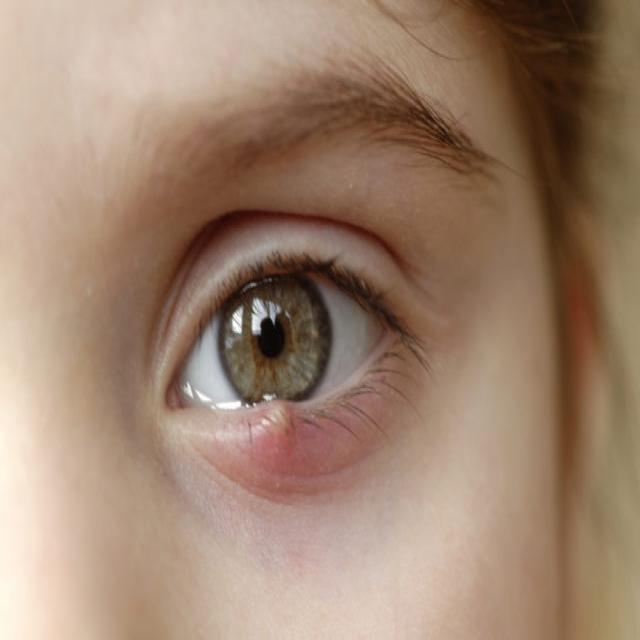Chalazion: (149, 225, 417, 496)
